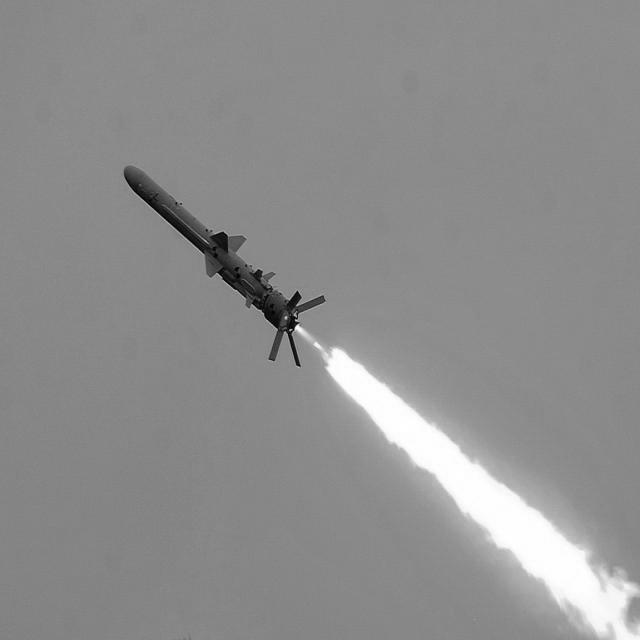missile: (121, 120, 334, 376)
